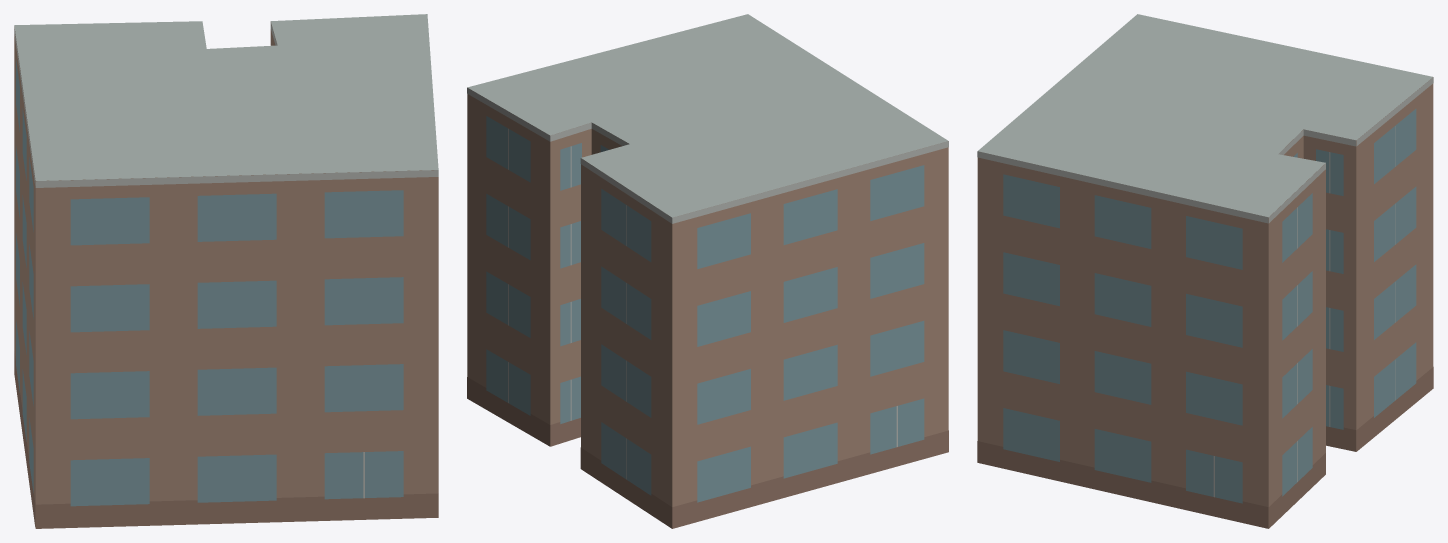
Rendered from survey-upis-32629467.glb.
3 renders of one model, left to right at view 1: azimuth 30°, elevation 25°; view 2: azimuth 150°, elevation 25°; view 3: azimuth 270°, elevation 25°, orthographic. The views are drawn at different scales.
Parts seen in each view (by area): view 1: survey-upis-32629467.tmp; view 2: survey-upis-32629467.tmp; view 3: survey-upis-32629467.tmp.
Part boxes in pixels (x1,y1,x2,y2): survey-upis-32629467.tmp: (14,14,438,528); survey-upis-32629467.tmp: (467,14,948,528); survey-upis-32629467.tmp: (977,14,1433,528).
Bounding box in the file's own units: 17.08 × 12.2 × 16.19.
